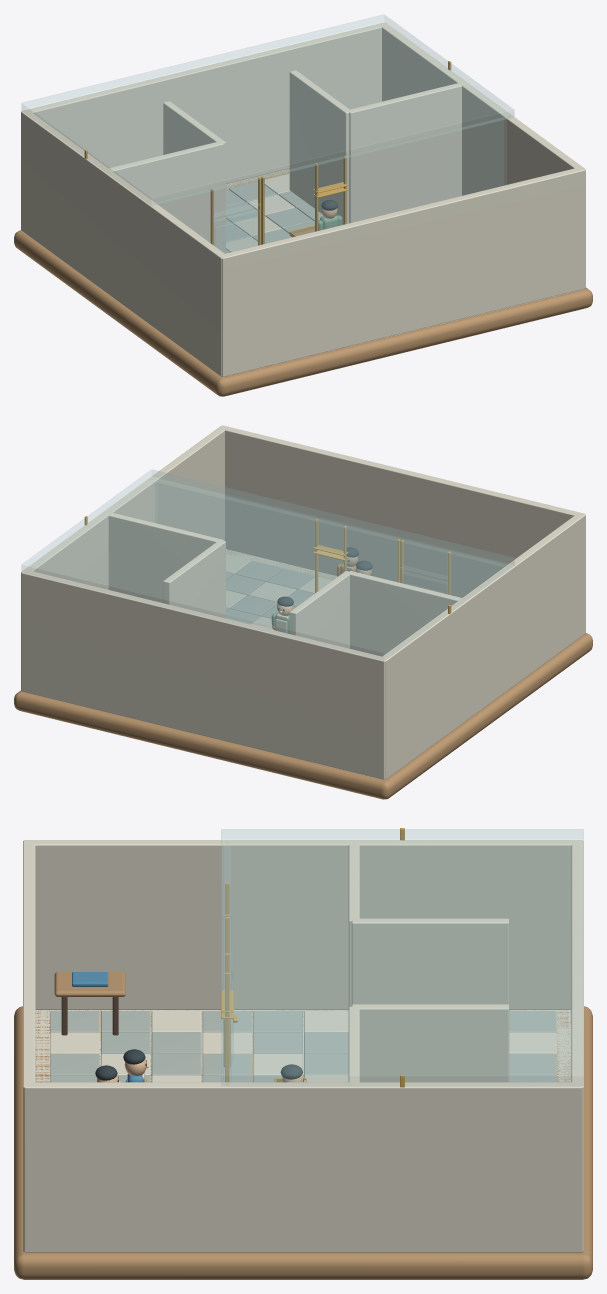
File: room-3.glb
3 views of the same model, one above another, from view 1: azimuth 30°, elevation 25°; view 2: azimuth 150°, elevation 25°; view 3: azimuth 270°, elevation 25° (orthographic). The views are drawn at different scales.
Parts seen in each view (by area): view 1: static_room_Ivory plaster.002, 封闭顶板, 走廊栏墙, static_glass_Clear blue glass.002, static_room_Honey oak.002, 右侧墙, static_room_Quiet tile.002, 锁住的门, door_intact_Clear blue glass.002, static_room_Antique brass.002; view 2: static_room_Ivory plaster.002, 封闭顶板, 走廊栏墙, static_glass_Clear blue glass.002, static_room_Honey oak.002, 右侧墙, static_room_Quiet tile.002, static_room_Antique brass.002, body_npc_sculpt; view 3: static_room_Ivory plaster.002, 右侧墙, 封闭顶板, static_room_Honey oak.002, static_room_Quiet tile.002, 走廊栏墙, static_room_Antique brass.002, body_a_sculpt, static_glass_Clear blue glass.002.
Boxes of the visible parts, x1=… form: static_room_Ivory plaster.002: x1=21, y1=22, x2=583, y2=376; 封闭顶板: x1=21, y1=14, x2=514, y2=205; 走廊栏墙: x1=221, y1=167, x2=585, y2=376; static_glass_Clear blue glass.002: x1=155, y1=117, x2=506, y2=243; static_room_Honey oak.002: x1=14, y1=168, x2=592, y2=396; 右侧墙: x1=380, y1=22, x2=585, y2=287; static_room_Quiet tile.002: x1=226, y1=181, x2=321, y2=253; 锁住的门: x1=214, y1=204, x2=260, y2=252; door_intact_Clear blue glass.002: x1=214, y1=208, x2=257, y2=253; static_room_Antique brass.002: x1=210, y1=116, x2=509, y2=244; static_room_Ivory plaster.002: x1=21, y1=511, x2=585, y2=780; 封闭顶板: x1=21, y1=469, x2=514, y2=660; 走廊栏墙: x1=219, y1=425, x2=585, y2=597; static_glass_Clear blue glass.002: x1=158, y1=480, x2=506, y2=625; static_room_Honey oak.002: x1=14, y1=549, x2=592, y2=799; 右侧墙: x1=21, y1=425, x2=227, y2=690; static_room_Quiet tile.002: x1=226, y1=561, x2=314, y2=624; static_room_Antique brass.002: x1=151, y1=479, x2=509, y2=594; body_npc_sculpt: x1=275, y1=596, x2=293, y2=633; static_room_Ivory plaster.002: x1=25, y1=840, x2=583, y2=1251; 右侧墙: x1=24, y1=1082, x2=582, y2=1252; 封闭顶板: x1=221, y1=829, x2=583, y2=1085; static_room_Honey oak.002: x1=14, y1=972, x2=592, y2=1279; static_room_Quiet tile.002: x1=50, y1=1011, x2=556, y2=1082; 走廊栏墙: x1=23, y1=840, x2=35, y2=1251; static_room_Antique brass.002: x1=221, y1=841, x2=233, y2=1084; body_a_sculpt: x1=123, y1=1049, x2=148, y2=1082; static_glass_Clear blue glass.002: x1=223, y1=883, x2=231, y2=1081.
Bounding box in the file's own units: 11.9 × 4.42 × 11.4.
